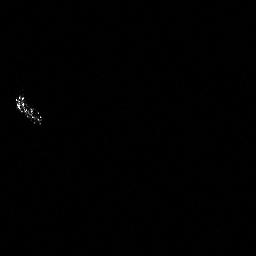ship: (12, 92, 46, 129)
